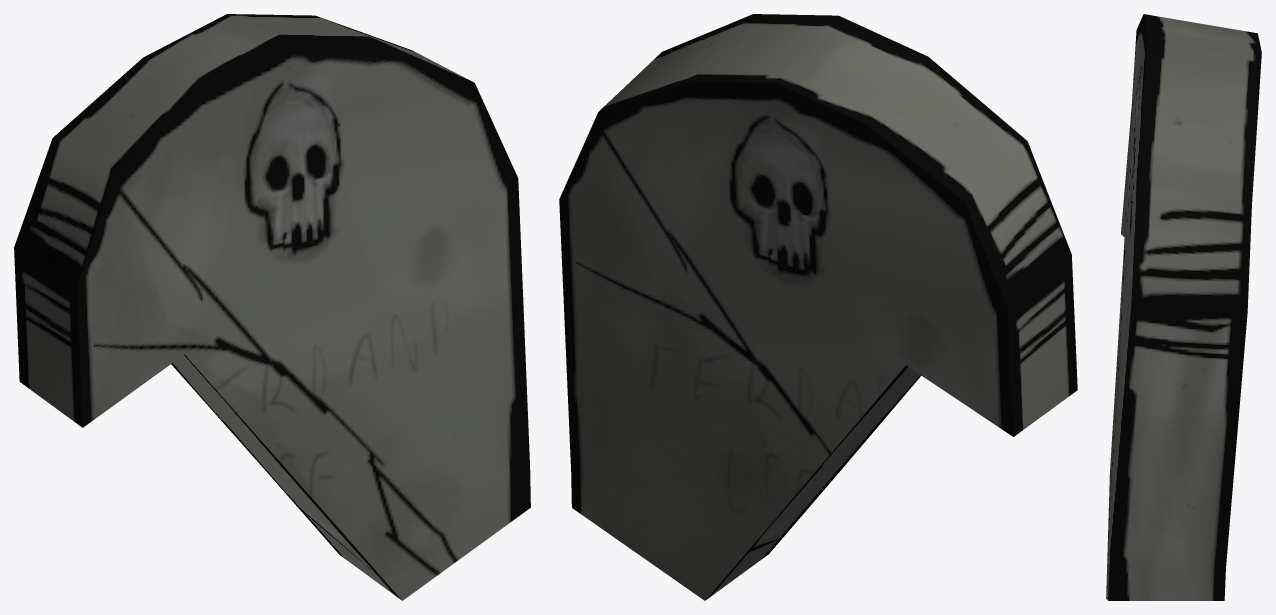
The model's file is tombstone1_gib2.fbx.
3 views of the same model, side by side, from view 1: azimuth 30°, elevation 25°; view 2: azimuth 150°, elevation 25°; view 3: azimuth 270°, elevation 25° (orthographic). The views are drawn at different scales.
Visible parts, largest first — view 1: tombstone1_gib2; view 2: tombstone1_gib2; view 3: tombstone1_gib2.
Part boxes in pixels (bbox=[...]): tombstone1_gib2: bbox=[14, 14, 530, 600]; tombstone1_gib2: bbox=[559, 14, 1077, 600]; tombstone1_gib2: bbox=[1106, 14, 1261, 600].
Size of the model in its own units: 154 by 190 by 51.1.
